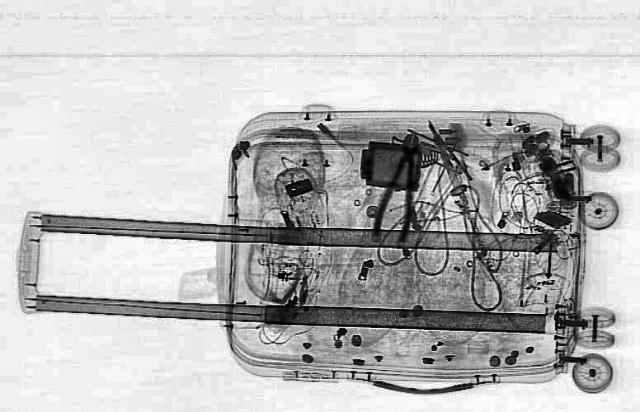Pliers: (368, 132, 429, 242)
